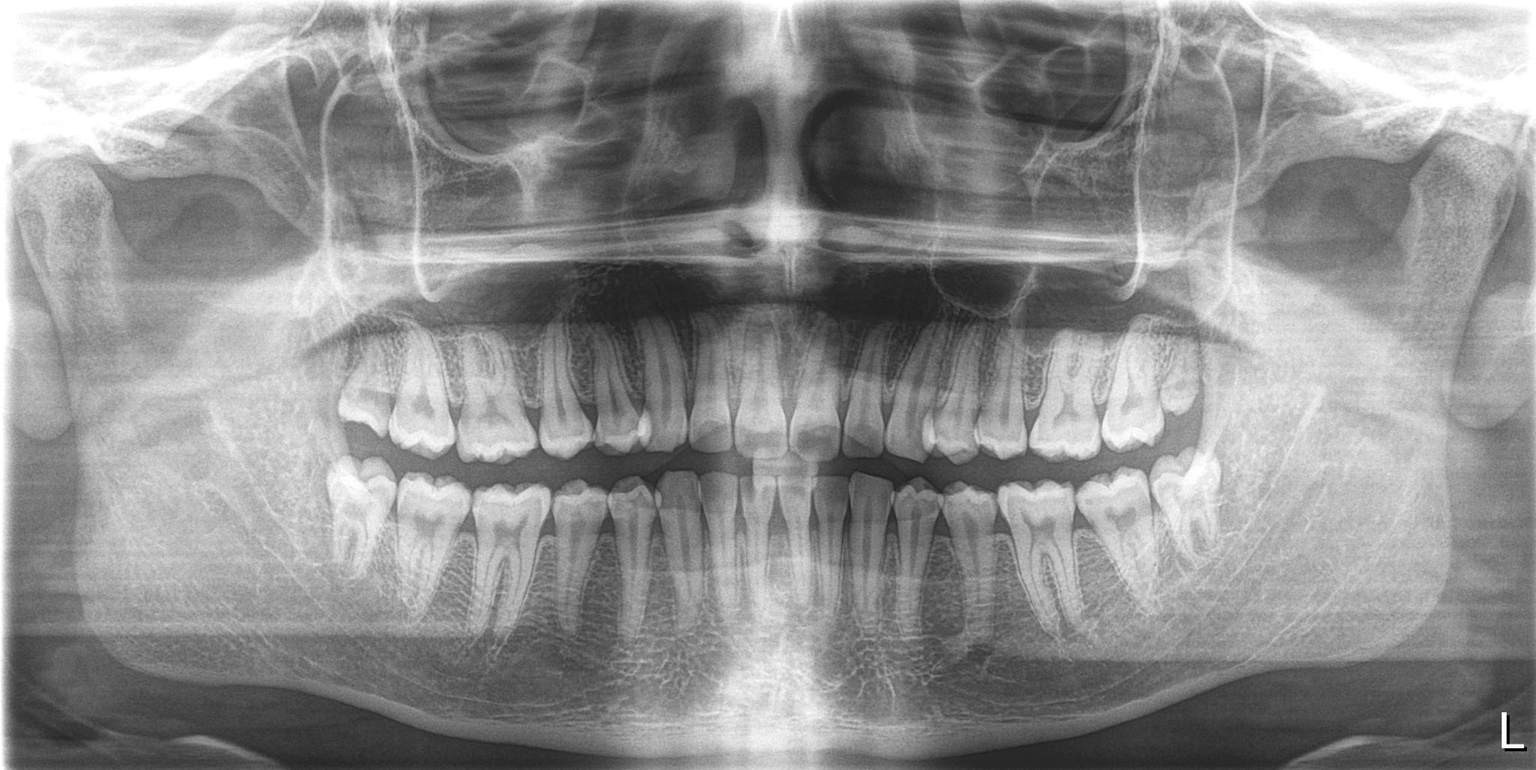Impacted Third Molar: (1146, 455, 1244, 538), (328, 467, 391, 573), (334, 324, 394, 429)
Retained Root: (1159, 339, 1204, 425)
